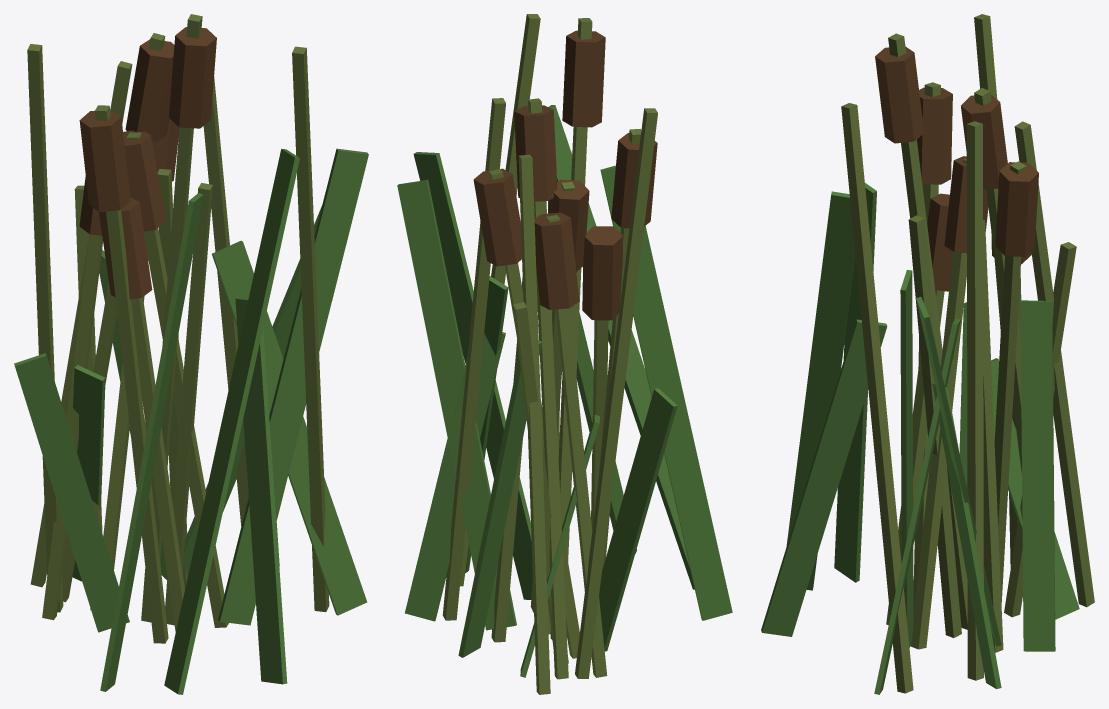
Rendered from Reeds.glb.
The picture shows the model from 3 angles, left to right: view 1: azimuth 30°, elevation 25°; view 2: azimuth 150°, elevation 25°; view 3: azimuth 270°, elevation 25°; orthographic projection. The views are drawn at different scales.
Visible parts, largest first — view 1: Reeds; view 2: Reeds; view 3: Reeds.
Part boxes in pixels (<box>): Reeds: <box>14,14,368,694</box>; Reeds: <box>397,14,732,694</box>; Reeds: <box>761,14,1094,694</box>.
Bounding box in the file's own units: 3.9 × 7.29 × 3.7.
